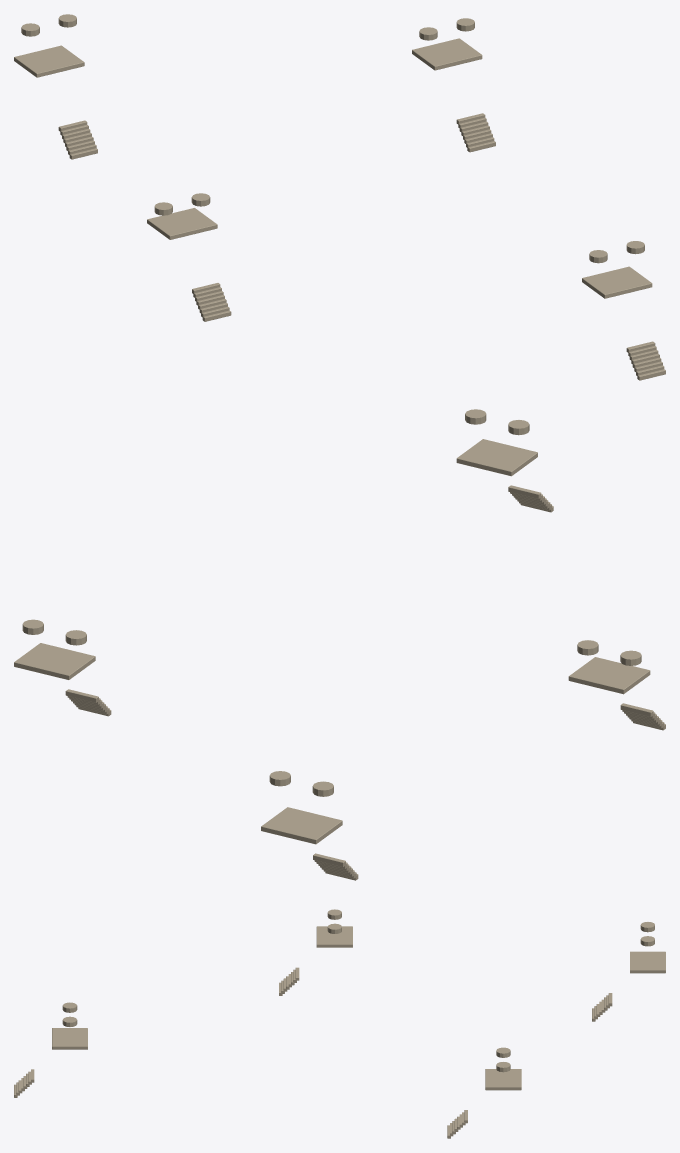
The model's file is TempleDistrict_SandstoneTrim_1.fbx.
3 views of the same model, one above another, from view 1: azimuth 30°, elevation 25°; view 2: azimuth 150°, elevation 25°; view 3: azimuth 270°, elevation 25° (orthographic). The views are drawn at different scales.
Visible parts, largest first — view 1: TempleDistrict_SandstoneTrim_1; view 2: TempleDistrict_SandstoneTrim_1; view 3: TempleDistrict_SandstoneTrim_1.
Part boxes in pixels (<box>): TempleDistrict_SandstoneTrim_1: <box>14,14,665,380</box>; TempleDistrict_SandstoneTrim_1: <box>14,409,665,880</box>; TempleDistrict_SandstoneTrim_1: <box>14,909,665,1138</box>.
Size of the model in its own units: 32000 by 7750 by 54150.
